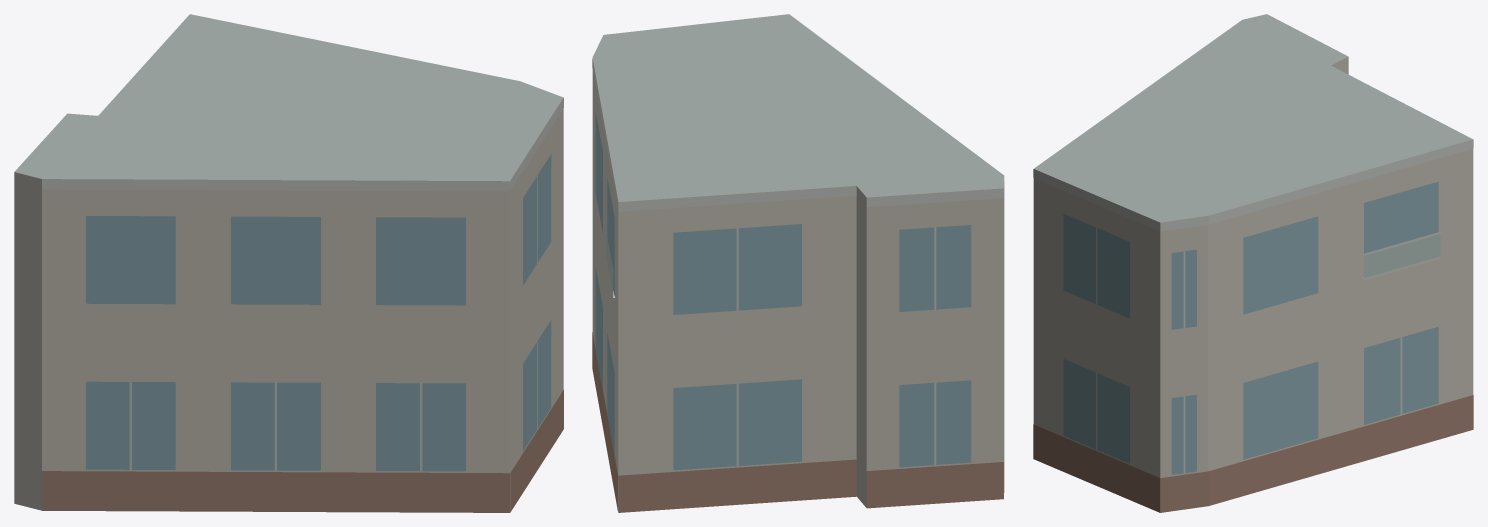
File: survey-upis-32748183.glb
3 renders of one model, left to right at view 1: azimuth 30°, elevation 25°; view 2: azimuth 150°, elevation 25°; view 3: azimuth 270°, elevation 25°, orthographic. The views are drawn at different scales.
Parts seen in each view (by area): view 1: survey-upis-32748183.tmp; view 2: survey-upis-32748183.tmp; view 3: survey-upis-32748183.tmp.
Boxes of the visible parts, x1,y1,x2,y2 form: survey-upis-32748183.tmp: (14, 14, 563, 512); survey-upis-32748183.tmp: (592, 14, 1004, 512); survey-upis-32748183.tmp: (1033, 14, 1473, 512).
Bounding box in the file's own units: 12.03 × 7.8 × 10.72.
